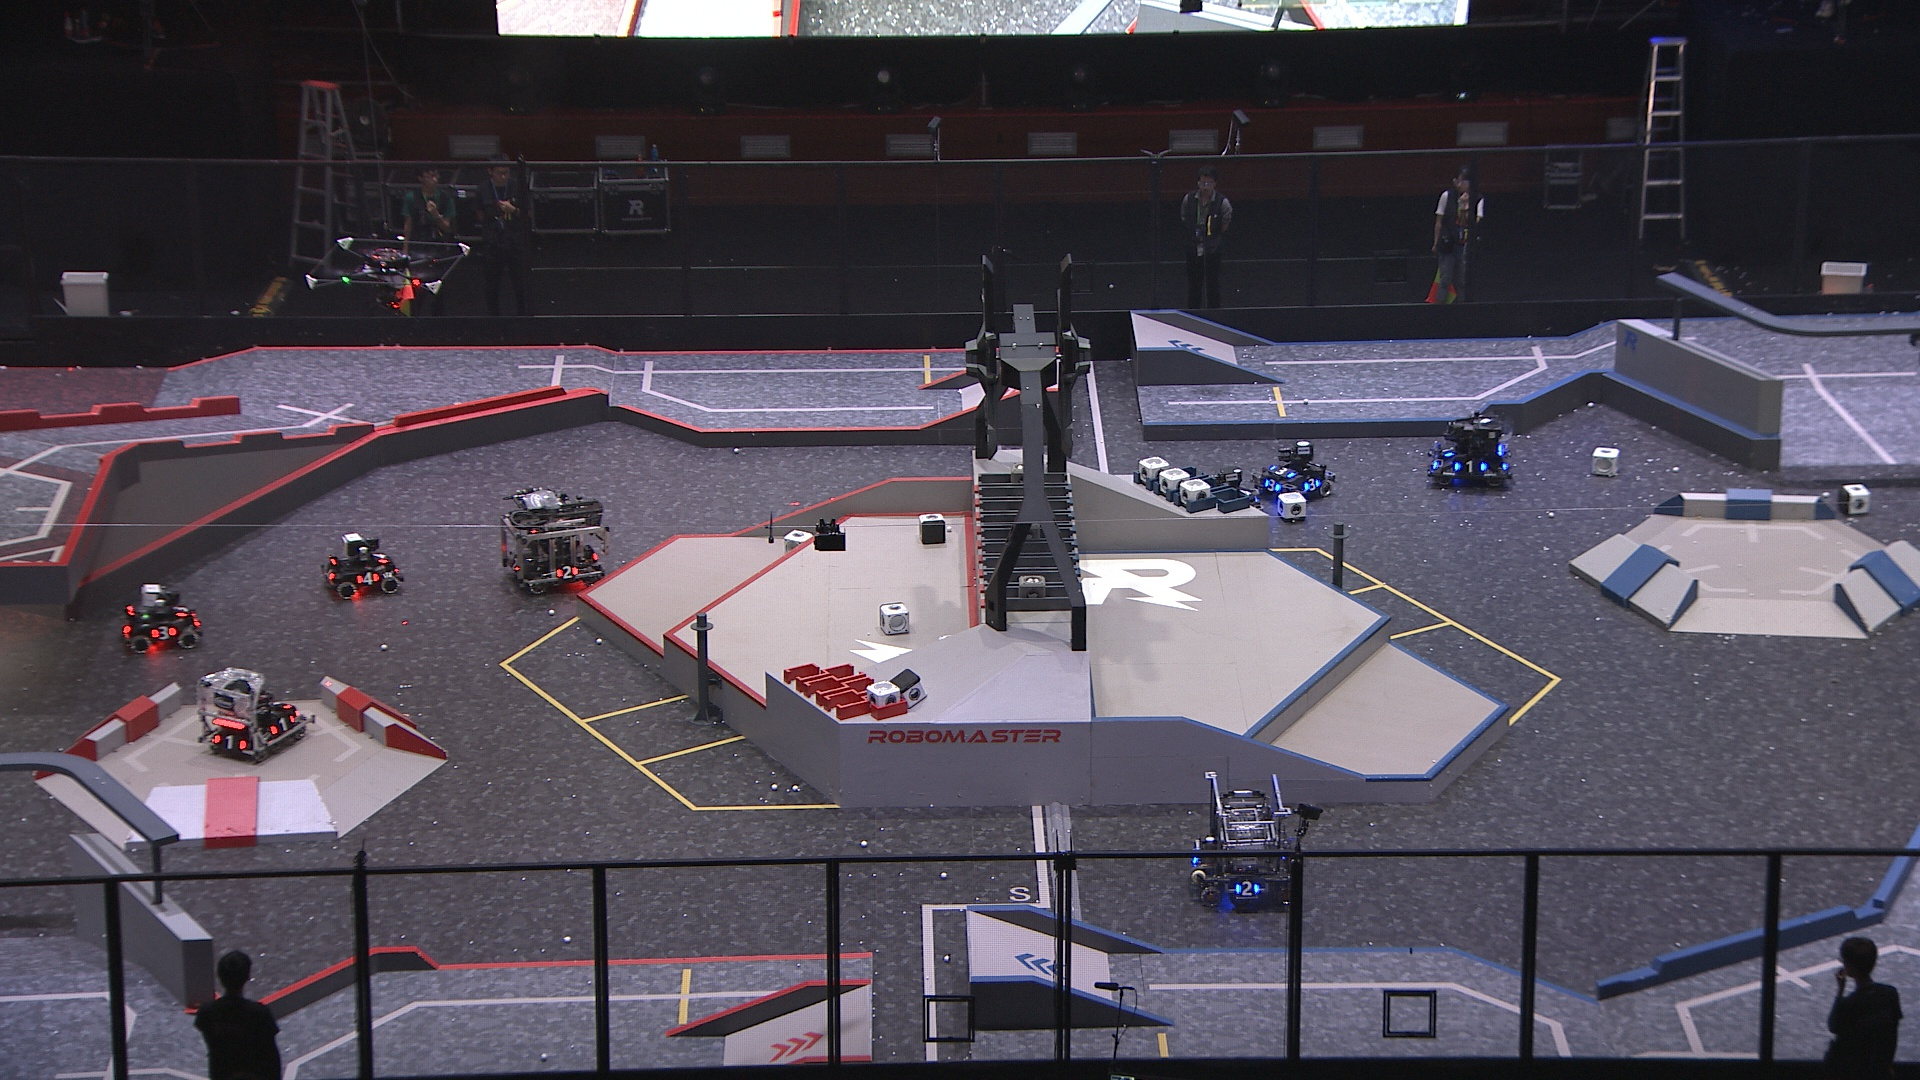armor: (262, 713, 301, 738), (211, 733, 248, 756), (1451, 456, 1490, 476), (1229, 878, 1262, 901), (551, 560, 580, 583), (146, 622, 177, 644), (352, 568, 381, 588), (266, 694, 294, 713), (1267, 462, 1295, 479), (1261, 476, 1282, 498), (1439, 438, 1457, 462), (1302, 475, 1324, 493), (167, 604, 191, 621), (502, 553, 522, 572), (373, 547, 392, 568), (320, 562, 338, 584)
car: (1189, 766, 1299, 909), (495, 484, 607, 597), (190, 665, 310, 764), (1428, 409, 1516, 491), (116, 582, 204, 655), (318, 529, 404, 603), (1253, 434, 1337, 500)
